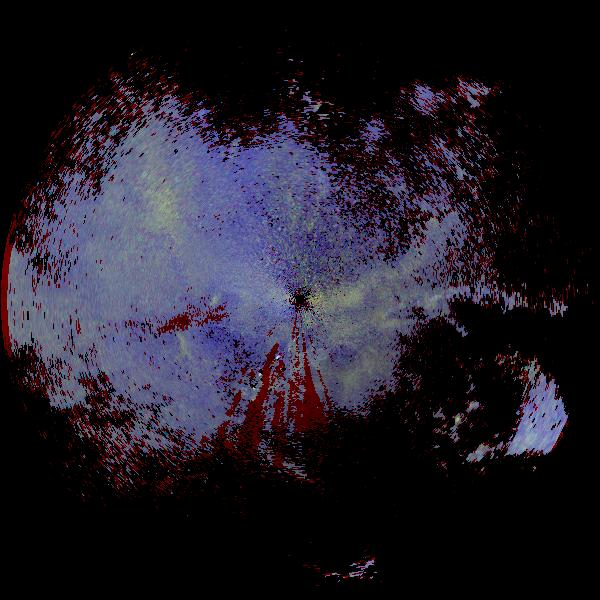roost: (120, 315, 207, 402)
